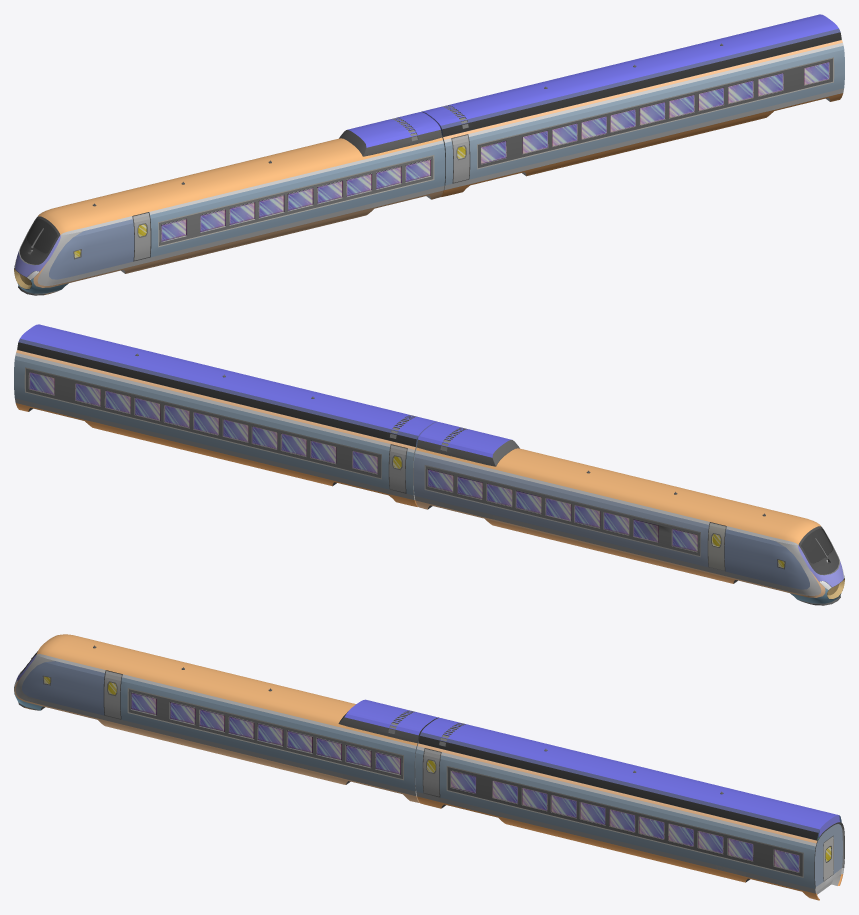
The model's file is 0_1_Train_1.fbx.
The picture shows the model from 3 angles, top to bottom: view 1: azimuth 30°, elevation 25°; view 2: azimuth 150°, elevation 25°; view 3: azimuth 330°, elevation 25°; orthographic projection.
Visible parts, largest first — view 1: 0_1_Train_1; view 2: 0_1_Train_1; view 3: 0_1_Train_1.
Boxes of the visible parts, <box> form: 0_1_Train_1: <box>14,14,844,295</box>; 0_1_Train_1: <box>14,324,844,605</box>; 0_1_Train_1: <box>14,634,844,900</box>.
Bounding box in the file's own units: 4069 × 371 × 266.
